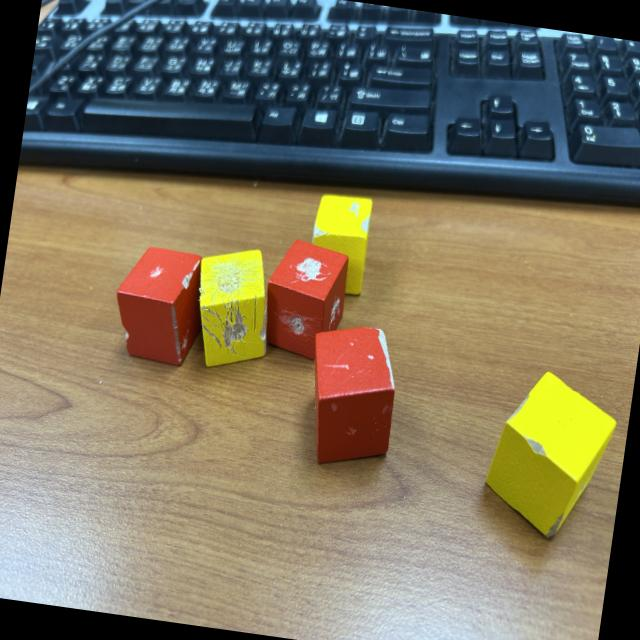broken: (476, 364, 624, 548), (298, 318, 406, 472), (107, 243, 211, 368), (187, 241, 280, 375), (258, 237, 352, 363), (306, 191, 374, 296)
